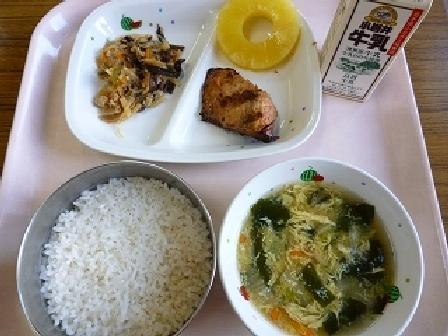Milk: (310, 0, 437, 95)
Rice: (17, 170, 210, 335)
Soups: (212, 172, 416, 331)
cutlet: (199, 69, 284, 144)
pineapple: (213, 0, 312, 60)
salad with sauce: (85, 28, 183, 117)
